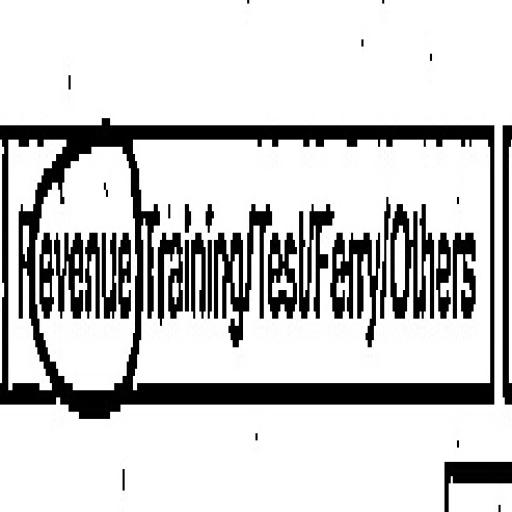check: (7, 70, 139, 480)
